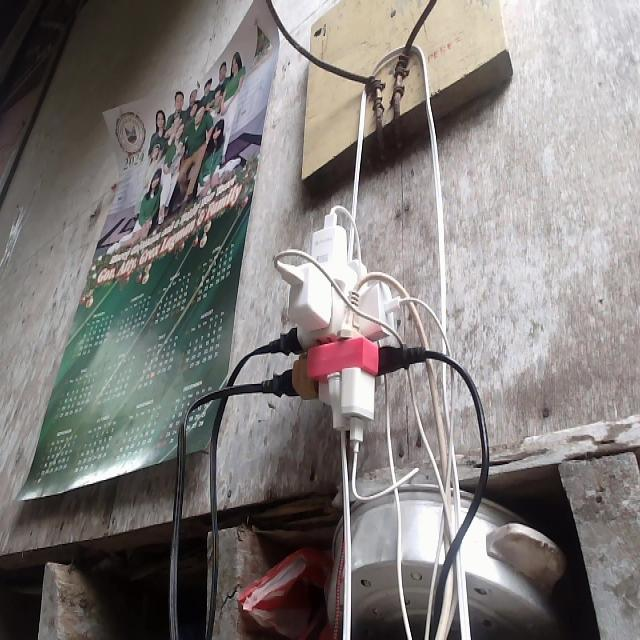-: (269, 205, 421, 448)
